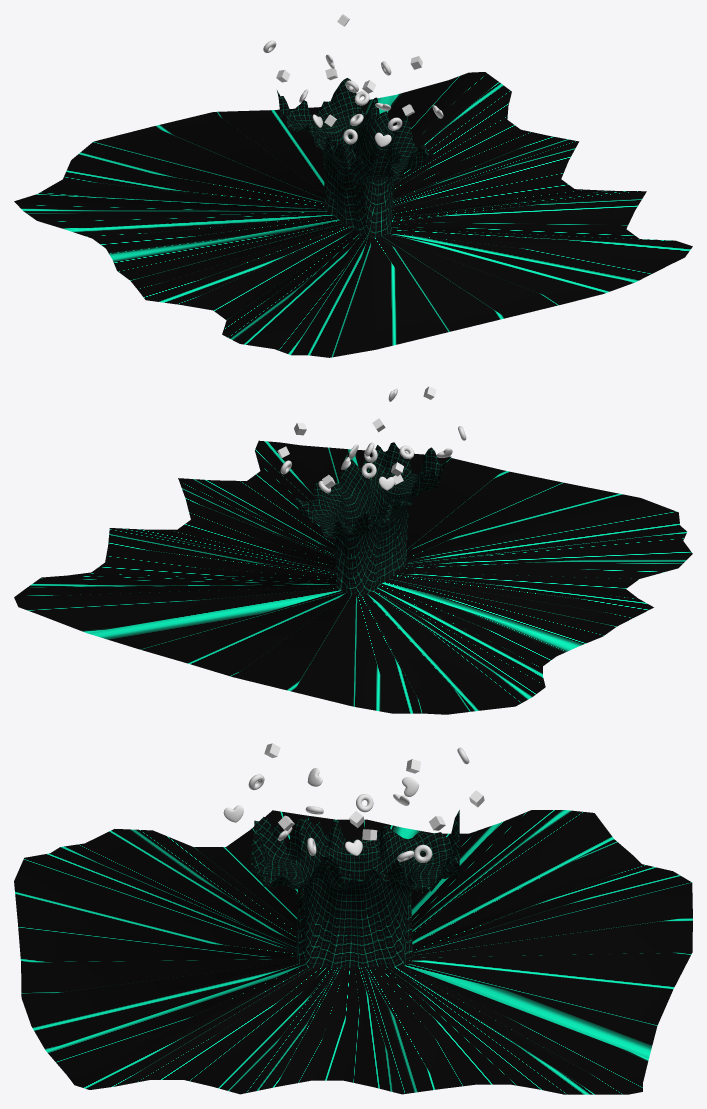
The model's file is Interconnect.glb.
The picture shows the model from 3 angles, top to bottom: view 1: azimuth 30°, elevation 25°; view 2: azimuth 150°, elevation 25°; view 3: azimuth 270°, elevation 25°; orthographic projection. The views are drawn at different scales.
Visible parts, largest first — view 1: Plane; view 2: Plane; view 3: Plane.
Part boxes in pixels (x1,y1,x2,y2): Plane: [14, 72, 692, 357]; Plane: [14, 440, 692, 714]; Plane: [14, 810, 692, 1094].
Size of the model in its own units: 264 by 90.59 by 266.
Materials: 2 (1 with a texture image).
